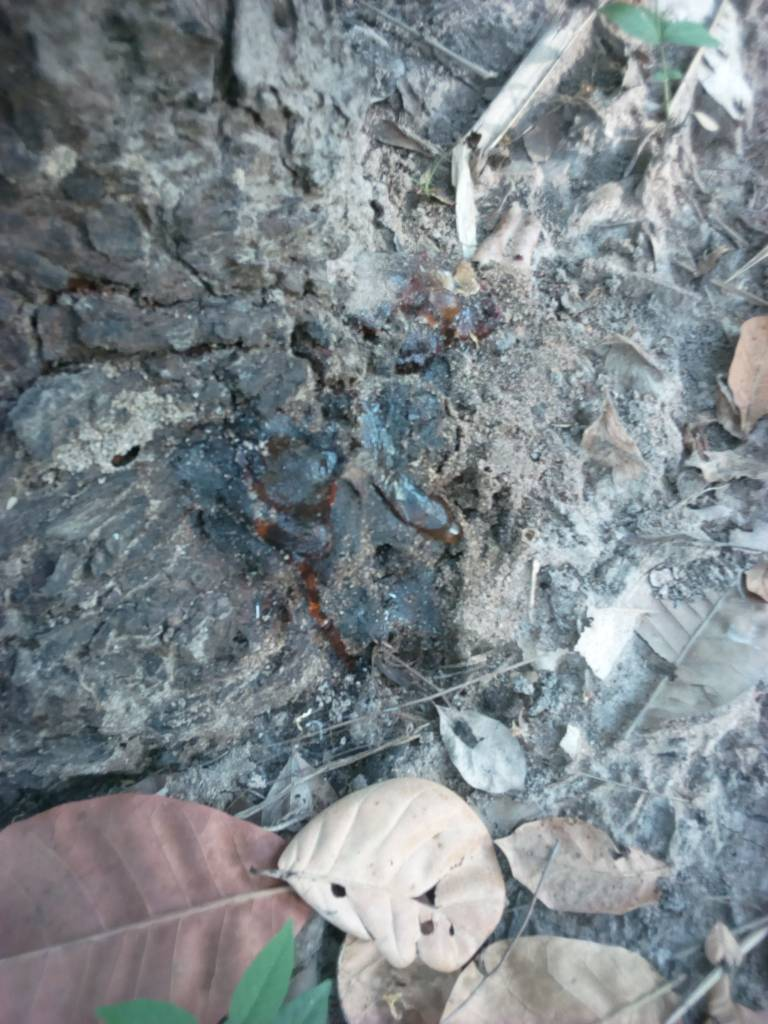Gommose: (190, 347, 486, 667)
